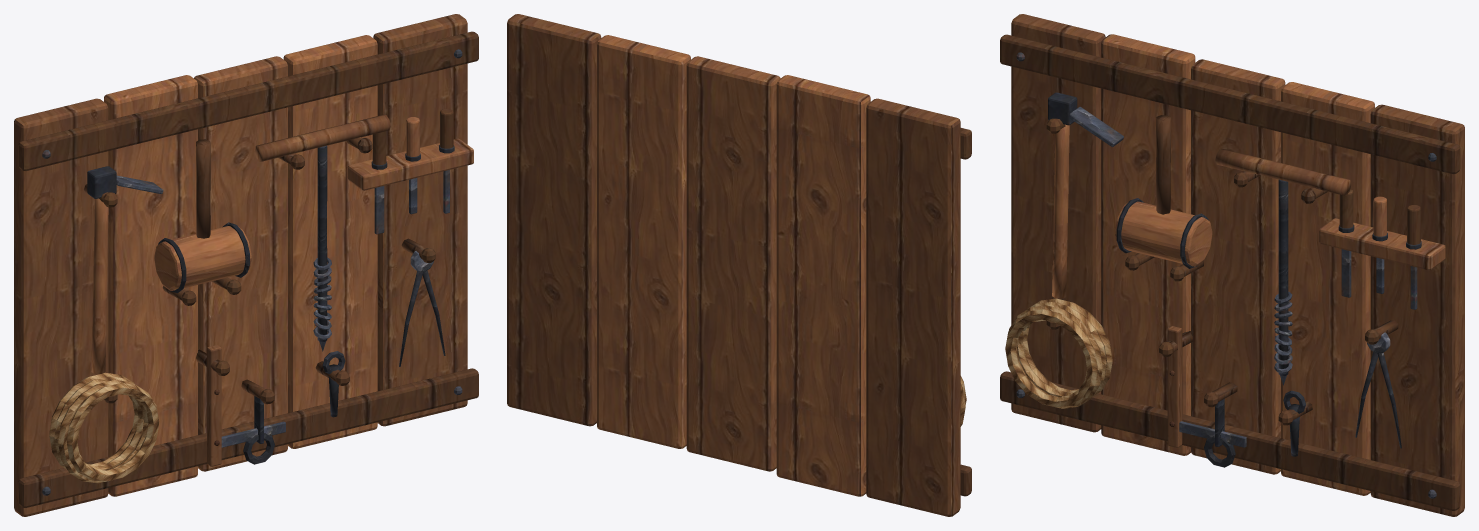
File: hw_tool_board.glb
3 renders of one model, left to right at view 1: azimuth 30°, elevation 25°; view 2: azimuth 150°, elevation 25°; view 3: azimuth 330°, elevation 25°, orthographic.
Visible parts, largest first — view 1: model; view 2: model; view 3: model.
Boxes of the visible parts, <box> form: model: <box>14,14,478,516</box>; model: <box>507,14,971,516</box>; model: <box>1000,14,1464,516</box>.
Size of the model in its own units: 1.22 by 1.01 by 0.1743.
Materials: 8 (8 with a texture image).
